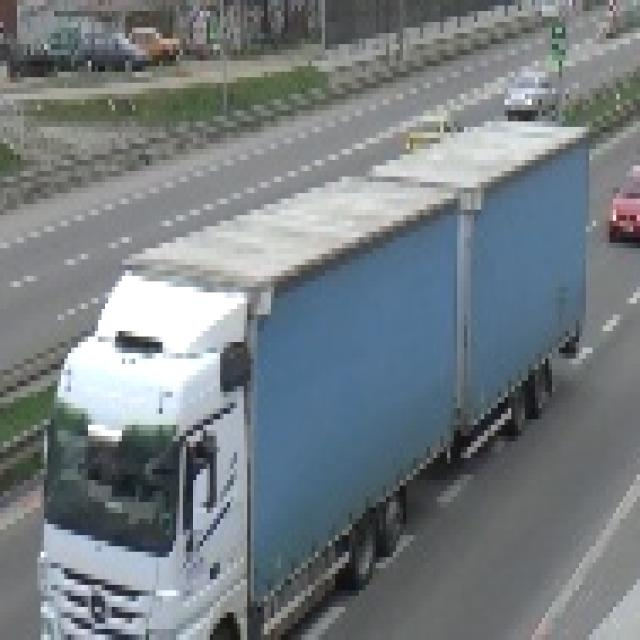TRUCK: (37, 124, 588, 636)
